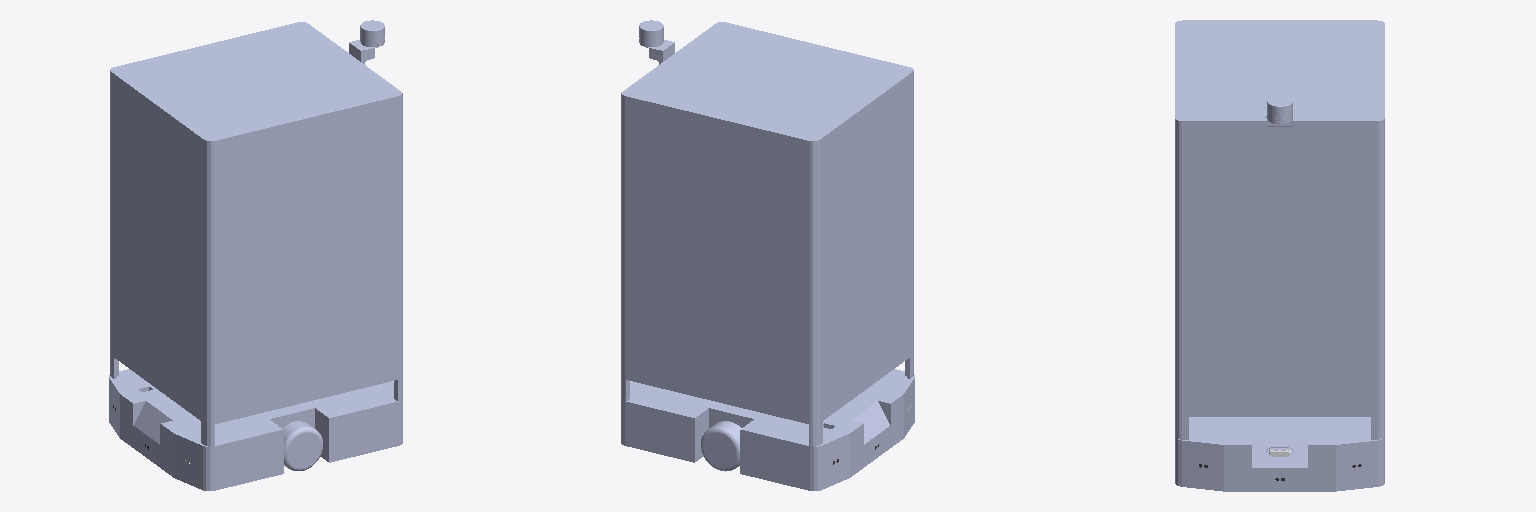
The robot description file, URDF, robot "bot_agv5":
<?xml version="1.0" encoding="utf-8"?>
<robot name="bot_agv5" xmlns:xacro="http://ros.org/wiki/xacro">

  <!-- Base footprint -->
<link name="base_footprint"/>

<!-- Joint connecting base_footprint to base_link -->
<joint name="base_joint" type="fixed">
  <parent link="base_footprint"/>
  <child link="base_link"/>
  <origin xyz="0 0 0" rpy="0 0 0"/>
</joint>

<!-- Base link -->
<link name="base_link">
  <inertial>
    <origin xyz="0.44897 0.83959 0.84573" rpy="0 0 0" />
    <mass value="288.88" />
    <inertia ixx="44.848" ixy="-0.16219" ixz="0.0078397" iyy="53.3" iyz="-0.0015458" izz="49.091" />
  </inertial>
  <visual>
    <origin xyz="-0.3 0.8 -0.5" rpy="0 0 0" />
    <geometry>
      <mesh filename="package://host_agv/models/bot_agv5/meshes/base_link.STL" />
    </geometry>
    <material name="">
      <color rgba="0.79216 0.81961 0.93333 1" />
    </material>
  </visual>
  <collision>
    <origin xyz="-0.3 0.8 -0.5" rpy="0 0 0" />
    <geometry>
      <mesh filename="package://host_agv/models/bot_agv5/meshes/base_link.STL" />
    </geometry>
  </collision>
</link>

<!-- Laser -->
<link name="laser">
  <inertial>
    <origin xyz="0.00025711 -0.019085 -0.00093411" rpy="0 0 0" />
    <mass value="0.16307" />
    <inertia ixx="6.0437E-05" ixy="-6.5608E-08" ixz="-1.1037E-07" iyy="0.00010759" iyz="2.3216E-07" izz="6.0727E-05" />
  </inertial>
  <visual>
    <origin xyz="0 0 0" rpy="-1.5708 0 -1.5708" />
    <geometry>
      <mesh filename="package://host_agv/models/bot_agv5/meshes/laser.STL" />
    </geometry>
    <material name="">
      <color rgba="0.79216 0.81961 0.93333 1" />
    </material>
  </visual>
  <collision>
    <origin xyz="0 0 0" rpy="-1.5708 0 -1.5708" />
    <geometry>
      <mesh filename="package://host_agv/models/bot_agv5/meshes/laser.STL" />
    </geometry>
  </collision>
</link>

<!-- Joint connecting base_link to laser -->
<joint name="rplidar_joint" type="fixed">
  <origin xyz="0.14756 -0.04551 0.0627" rpy="0 0 3.1416" />
  <parent link="base_link" />
  <child link="laser" />
  <axis xyz="0 0 1" />
</joint>

<!-- Laser link -->
<link name="laser_link">
  <inertial>
    <origin xyz="0.00010213 0.036297 3.2869E-06" rpy="0 0 0" />
    <mass value="0.60561" />
    <inertia ixx="0.00066704" ixy="1.8129E-06" ixz="1.7526E-11" iyy="0.00080407" iyz="6.6764E-08" izz="0.00067092" />
  </inertial>
  <visual>
    <origin xyz="0 0 0" rpy="1.5708 0 3.1416" />
    <geometry>
      <mesh filename="package://host_agv/models/bot_agv5/meshes/laser_link.STL" />
    </geometry>
    <material name="">
      <color rgba="0.79216 0.81961 0.93333 1" />
    </material>
  </visual>
  <collision>
    <origin xyz="0 0 0" rpy="1.5708 0 3.1416" />
    <geometry>
      <mesh filename="package://host_agv/models/bot_agv5/meshes/laser_link.STL" />
    </geometry>
  </collision>
</link>

<!-- Joint connecting base_link to laser_link -->
<joint name="lslidar_joint" type="fixed">
  <origin xyz="0.709 -0.04566 1.5197" rpy="0 0 1.5708" />
  <parent link="base_link" />
  <child link="laser_link" />
  <axis xyz="0 0 1" />
</joint>

<!-- Left wheel link -->
<link name="wheel_left_link">
  <inertial>
    <origin xyz="0 0 0.05" rpy="0 0 0" />
    <mass value="2.9679" />
    <inertia ixx="0.0097224" ixy="-2.1684E-19" ixz="-1.6122E-19" iyy="0.0097224" iyz="1.7156E-20" izz="0.014755" />
  </inertial>
  <visual>
    <origin xyz="0 0 0" rpy="-1.5708 0.21783 -3.1416" />
    <geometry>
      <mesh filename="package://host_agv/models/bot_agv5/meshes/wheel_left_link.STL" />
    </geometry>
    <material name="">
      <color rgba="0.79216 0.81961 0.93333 1" />
    </material>
  </visual>
  <collision>
    <origin xyz="0 0 0" rpy="-1.5708 0.21783 -3.1416" />
    <geometry>
      <mesh filename="package://host_agv/models/bot_agv5/meshes/wheel_left_link.STL" />
    </geometry>
  </collision>
</link>

<!-- Joint connecting base_link to left wheel -->
<joint name="wheel_left_joint" type="continuous">
  <origin xyz="0.14771 -0.3482 -0.0703" rpy="0 0 0" />
  <parent link="base_link" />
  <child link="wheel_left_link" />
  <axis xyz="0 1 0" />
</joint>

<!-- Right wheel link -->
<link name="wheel_right_link">
  <inertial>
    <origin xyz="5.5511E-17 -5.5511E-17 0.05" rpy="0 0 0" />
    <mass value="2.9679" />
    <inertia ixx="0.0097224" ixy="-6.074E-38" ixz="0" iyy="0.0097224" iyz="-1.6088E-35" izz="0.014755" />
  </inertial>
  <visual>
    <origin xyz="0 0 0" rpy="1.5708 0 0" />
    <geometry>
      <mesh filename="package://host_agv/models/bot_agv5/meshes/wheel_right_link.STL" />
    </geometry>
    <material name="">
      <color rgba="0.79216 0.81961 0.93333 1" />
    </material>
  </visual>
  <collision>
    <origin xyz="0 0 0" rpy="1.5708 0 0" />
    <geometry>
      <mesh filename="package://host_agv/models/bot_agv5/meshes/wheel_right_link.STL" />
    </geometry>
  </collision>
</link>

<!-- Joint connecting base_link to right wheel -->
<joint name="wheel_right_joint" type="continuous">
  <origin xyz="0.14771 0.35684 -0.0703" rpy="0 0 0" />
  <parent link="base_link" />
  <child link="wheel_right_link" />
  <axis xyz="0 1 0" />
</joint>

<!-- IMU link -->
<link name="imu_link">
  <inertial>
    <origin xyz="-0.0184 0.0275 -0.012" rpy="0 0 0" />
    <mass value="0.048576" />
    <inertia ixx="1.4577E-05" ixy="3.3007E-20" ixz="-2.8462E-20" iyy="7.8136E-06" iyz="2.1514E-19" izz="1.7727E-05" />
  </inertial>
  <visual>
    <origin xyz="0 0 0" rpy="-3.1416 0 1.5708" />
    <geometry>
      <mesh filename="package://host_agv/models/bot_agv5/meshes/imu_link.STL" />
    </geometry>
    <material name="">
      <color rgba="0.79216 0.81961 0.93333 1" />
    </material>
  </visual>
  <collision>
    <origin xyz="0 0 0" rpy="-3.1416 0 1.5708" />
    <geometry>
      <mesh filename="package://host_agv/models/bot_agv5/meshes/imu_link.STL" />
    </geometry>
  </collision>
</link>

<!-- Joint connecting base_link to imu_link -->
<joint name="imu_joint" type="fixed">
  <origin xyz="-0.289788 0.18274 0.0147" rpy="0 0 0" />
  <parent link="base_link" />
  <child link="imu_link" />
  
</joint>

<!-- Camera link -->
<link name="camera_link">
  <inertial>
    <origin xyz="1.1443E-05 -0.00013623 0.011556" rpy="0 0 0" />
    <mass value="0.10791" />
    <inertia ixx="7.7099E-06" ixy="-2.7921E-10" ixz="-1.7968E-08" iyy="7.0256E-05" iyz="4.9369E-08" izz="7.1254E-05" />
  </inertial>
  <visual>
    <origin xyz="0 0 0" rpy="1.4667 0 1.5708" />
    <geometry>
      <mesh filename="package://host_agv/models/bot_agv5/meshes/camera_link.STL" />
    </geometry>
    <material name="">
      <color rgba="0.89804 0.91765 0.92941 1" />
    </material>
  </visual>
  <collision>
    <origin xyz="0 0 0" rpy="1.4667 0 1.5708" />
    <geometry>
      <mesh filename="package://host_agv/models/bot_agv5/meshes/camera_link.STL" />
    </geometry>
  </collision>
</link>

<!-- Joint connecting base_link to camera_link -->
<joint name="camera_joint" type="fixed">
  <origin xyz="0.61315 -0.04578 -0.00105" rpy="0 0 0" />
  <parent link="base_link" />
  <child link="camera_link" />
  <axis xyz="0 0 0" />
</joint>

<!-- Sensor one link -->
<link name="sensor_one">
  <inertial>
    <origin xyz="-0.011509 -7.9086E-05 0.014139" rpy="0 0 0" />
    <mass value="0.0062193" />
    <inertia ixx="2.1694E-07" ixy="1.2249E-09" ixz="-5.1946E-14" iyy="9.8554E-07" iyz="2.2269E-09" izz="1.0096E-06" />
  </inertial>
  <visual>
    <origin xyz="0 0 0" rpy="1.5708 0 1.5708" />
    <geometry>
      <mesh filename="package://host_agv/models/bot_agv5/meshes/sensor_one.STL" />
    </geometry>
    <material name="">
      <color rgba="0.29804 0.29804 0.29804 1" />
    </material>
  </visual>
  <collision>
    <origin xyz="0 0 0" rpy="1.5708 0 1.5708" />
    <geometry>
      <mesh filename="package://host_agv/models/bot_agv5/meshes/sensor_one.STL" />
    </geometry>
  </collision>
</link>

<!-- Joint connecting base_link to sensor_one -->
<joint name="front_one_joint" type="fixed">
  <origin xyz="0.65093 -0.03366 -0.0928" rpy="0 0 0" />
  <parent link="base_link" />
  <child link="sensor_one" />
  <axis xyz="0 0 0" />
</joint>

<!-- Sensor two link -->
<link name="sensor_two">
  <inertial>
    <origin xyz="-8.5525E-06 -7.9086E-05 0.0043485" rpy="0 0 0" />
    <mass value="0.0062193" />
    <inertia ixx="2.1694E-07" ixy="1.2249E-09" ixz="-5.1688E-14" iyy="9.8554E-07" iyz="2.2269E-09" izz="1.0096E-06" />
  </inertial>
  <visual>
    <origin xyz="0 0 0" rpy="1.5708 0 1.3198" />
    <geometry>
      <mesh filename="package://host_agv/models/bot_agv5/meshes/sensor_two.STL" />
    </geometry>
    <material name="">
      <color rgba="0.29804 0.29804 0.29804 1" />
    </material>
  </visual>
  <collision>
    <origin xyz="0 0 0" rpy="1.5708 0 1.3198" />
    <geometry>
      <mesh filename="package://host_agv/models/bot_agv5/meshes/sensor_two.STL" />
    </geometry>
  </collision>
</link>

<!-- Joint connecting base_link to sensor_two -->
<joint name="front_two_joint" type="fixed">
  <origin xyz="0.64019 -0.3492 -0.0427" rpy="0 0 0" />
  <parent link="base_link" />
  <child link="sensor_two" />
  <axis xyz="0 0 0" />
</joint>

<!-- Sensor three link -->
<link name="sensor_three">
  <inertial>
    <origin xyz="0.011491 -7.9086E-05 0.012794" rpy="0 0 0" />
    <mass value="0.0062193" />
    <inertia ixx="2.1694E-07" ixy="1.2249E-09" ixz="-5.341E-14" iyy="9.8554E-07" iyz="2.2269E-09" izz="1.0096E-06" />
  </inertial>
  <visual>
    <origin xyz="0 0 0" rpy="1.5708 0 1.8218" />
    <geometry>
      <mesh filename="package://host_agv/models/bot_agv5/meshes/sensor_three.STL" />
    </geometry>
    <material name="">
      <color rgba="0.29804 0.29804 0.29804 1" />
    </material>
  </visual>
  <collision>
    <origin xyz="0 0 0" rpy="1.5708 0 1.8218" />
    <geometry>
      <mesh filename="package://host_agv/models/bot_agv5/meshes/sensor_three.STL" />
    </geometry>
  </collision>
</link>

<!-- Joint connecting base_link to sensor_three -->
<joint name="front_three_joint" type="fixed">
  <origin xyz="0.63474 0.2451 -0.0428" rpy="0 0 0" />
  <parent link="base_link" />
  <child link="sensor_three" />
  <axis xyz="0 0 0" />
</joint>

<!-- Sensor four link -->
<link name="sensor_four">
  <inertial>
    <origin xyz="0.011491 7.9086E-05 -0.014139" rpy="0 0 0" />
    <mass value="0.0062193" />
    <inertia ixx="2.1694E-07" ixy="-1.2249E-09" ixz="5.1946E-14" iyy="9.8554E-07" iyz="2.2269E-09" izz="1.0096E-06" />
  </inertial>
  <visual>
    <origin xyz="0 0 0" rpy="-1.5708 0 -1.5708" />
    <geometry>
      <mesh filename="package://host_agv/models/bot_agv5/meshes/sensor_four.STL" />
    </geometry>
    <material name="">
      <color rgba="0.29804 0.29804 0.29804 1" />
    </material>
  </visual>
  <collision>
    <origin xyz="0 0 0" rpy="-1.5708 0 -1.5708" />
    <geometry>
      <mesh filename="package://host_agv/models/bot_agv5/meshes/sensor_four.STL" />
    </geometry>
  </collision>
</link>

<!-- Joint connecting base_link to sensor_four -->
<joint name="back_four_joint" type="fixed">
  <origin xyz="-0.355584 -0.03366 -0.0928" rpy="0 0 0" />
  <parent link="base_link" />
  <child link="sensor_four" />
  <axis xyz="0 0 0" />
</joint>

<!-- Sensor five link -->
<link name="sensor_five">
  <inertial>
    <origin xyz="-8.5525E-06 -7.9086E-05 0.0043485" rpy="0 0 0" />
    <mass value="0.0062193" />
    <inertia ixx="2.1694E-07" ixy="1.2249E-09" ixz="-5.1688E-14" iyy="9.8554E-07" iyz="2.2269E-09" izz="1.0096E-06" />
  </inertial>
  <visual>
    <origin xyz="0 0 0" rpy="1.5708 0 -1.8218" />
    <geometry>
      <mesh filename="package://host_agv/models/bot_agv5/meshes/sensor_five.STL" />
    </geometry>
    <material name="">
      <color rgba="0.29804 0.29804 0.29804 1" />
    </material>
  </visual>
  <collision>
    <origin xyz="0 0 0" rpy="1.5708 0 -1.8218" />
    <geometry>
      <mesh filename="package://host_agv/models/bot_agv5/meshes/sensor_five.STL" />
    </geometry>
  </collision>
</link>

<!-- Joint connecting base_link to sensor_five -->
<joint name="back_five_joint" type="fixed">
  <origin xyz="-0.344519 0.25883 -0.0428" rpy="0 0 0" />
  <parent link="base_link" />
  <child link="sensor_five" />
  <axis xyz="0 0 0" />
</joint>

<!-- Sensor six link -->
<link name="sensor_six">
  <inertial>
    <origin xyz="0 0 0" rpy="0 0 0" />
    <mass value="0" />
    <inertia ixx="0" ixy="0" ixz="0" iyy="0" iyz="0" izz="0" />
  </inertial>
  <visual>
    <origin xyz="0 0 0" rpy="1.5708 0 -1.3198" />
    <geometry>
      <mesh filename="package://host_agv/models/bot_agv5/meshes/sensor_six.STL" />
    </geometry>
    <material name="">
      <color rgba="1 1 1 1" />
    </material>
  </visual>
  <collision>
    <origin xyz="0 0 0" rpy="1.5708 0 -1.3198" />
    <geometry>
      <mesh filename="package://host_agv/models/bot_agv5/meshes/sensor_six.STL" />
    </geometry>
  </collision>
</link>

<!-- Joint connecting base_link to sensor_six -->
<joint name="back_six_joint" type="fixed">
  <origin xyz="-0.344519 -0.3501 -0.0428" rpy="0 0 0" />
  <parent link="base_link" />
  <child link="sensor_six" />
  <axis xyz="0 0 0" />
</joint>

</robot>

--- Facts derived from the render (not from the file) ---
The picture shows the robot from 3 angles, left to right: view 1: azimuth 30°, elevation 25°; view 2: azimuth 150°, elevation 25°; view 3: azimuth 270°, elevation 25°; orthographic projection.
Robot: bot_agv5 — 14 links, 13 joints (2 continuous, 11 fixed); root link base_footprint; default pose: all joints at 0.
Links seen in each view (by area): view 1: base_link, wheel_left_link, laser_link; view 2: base_link, wheel_right_link, laser_link; view 3: base_link, laser_link.
Link boxes in pixels (x1=…): base_link: x1=109, y1=22, x2=402, y2=490; wheel_left_link: x1=282, y1=421, x2=322, y2=470; laser_link: x1=360, y1=20, x2=384, y2=46; base_link: x1=621, y1=22, x2=914, y2=490; wheel_right_link: x1=701, y1=421, x2=741, y2=471; laser_link: x1=639, y1=20, x2=663, y2=46; base_link: x1=1175, y1=20, x2=1384, y2=491; laser_link: x1=1264, y1=96, x2=1292, y2=122.
Bounding box of the posed robot: 1.14 × 0.84 × 1.76 m (x, y, z).
13 mesh visuals loaded from 13 distinct referenced files (13 binary STL).